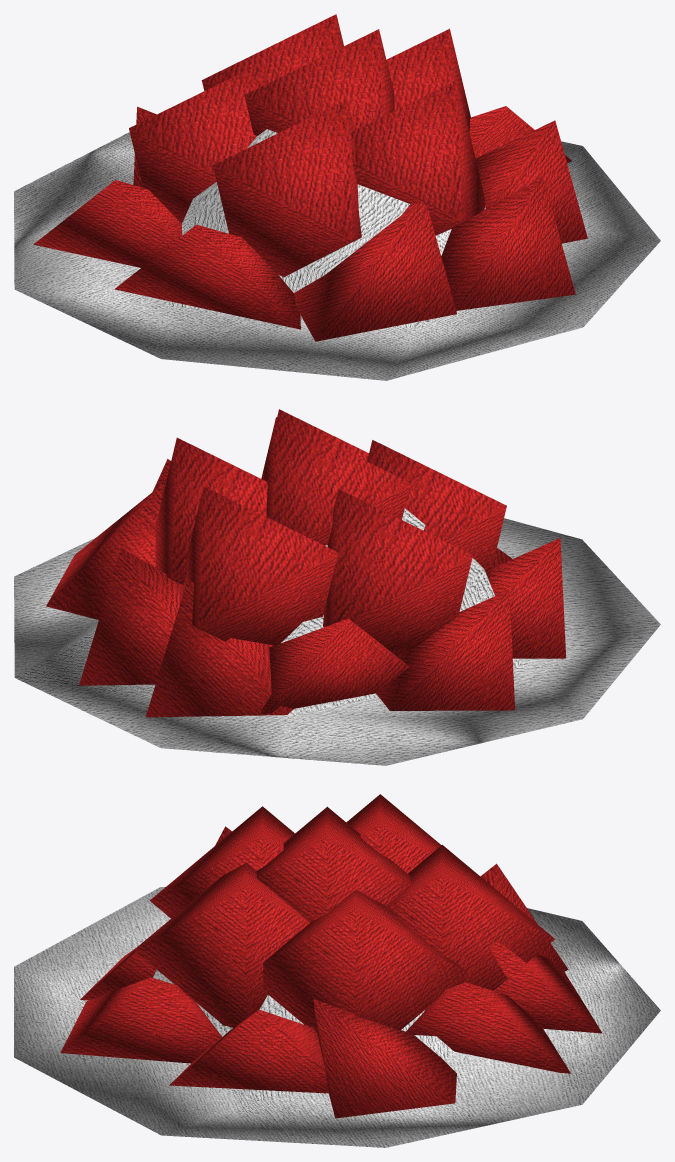
The model's file is hat_a_low.glb.
3 renders of one model, top to bottom at view 1: azimuth 30°, elevation 25°; view 2: azimuth 150°, elevation 25°; view 3: azimuth 270°, elevation 25°, orthographic.
Visible parts, largest first — view 1: redTowel.jpg__, whiteTowel.jpg__; view 2: redTowel.jpg__, whiteTowel.jpg__; view 3: redTowel.jpg__, whiteTowel.jpg__.
Part boxes in pixels (x1=…): redTowel.jpg__: x1=33, y1=14, x2=587, y2=341; whiteTowel.jpg__: x1=14, y1=129, x2=660, y2=380; redTowel.jpg__: x1=46, y1=409, x2=566, y2=717; whiteTowel.jpg__: x1=14, y1=508, x2=660, y2=765; redTowel.jpg__: x1=60, y1=794, x2=601, y2=1118; whiteTowel.jpg__: x1=14, y1=886, x2=660, y2=1147.
Size of the model in its own units: 2.26 by 0.7875 by 2.23.
2 materials, 2 textured.
